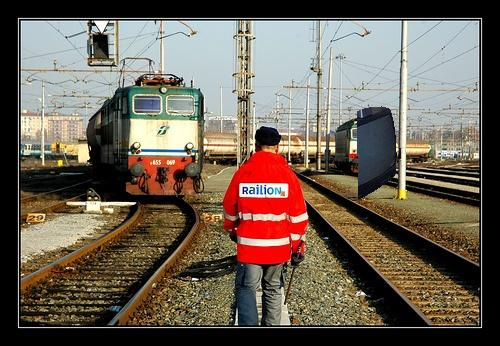tampered: (358, 107, 396, 199)
